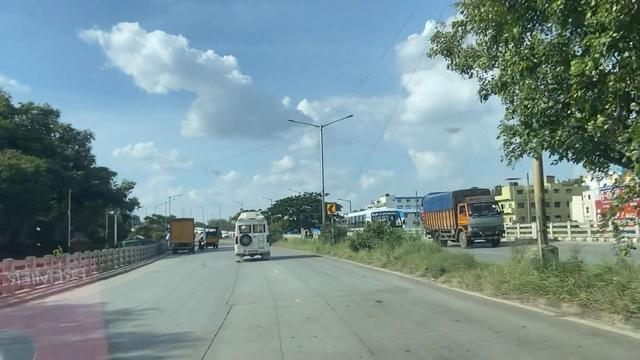HMV: (233, 204, 271, 263), (166, 206, 199, 252)
